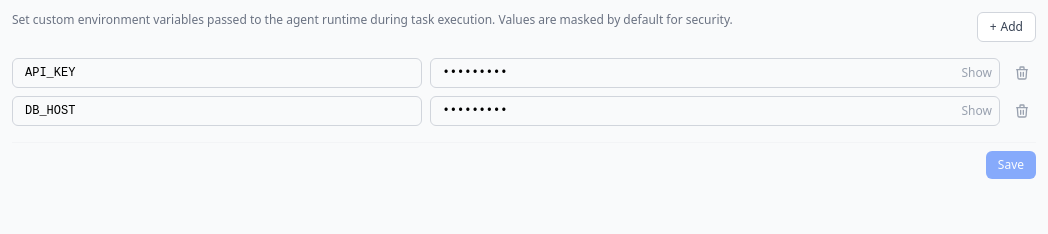
EnvironmentTab › Add button adds new row
Click the button with aria-label "Add environment variable": [1006, 27] box 977,12 -> 1036,42
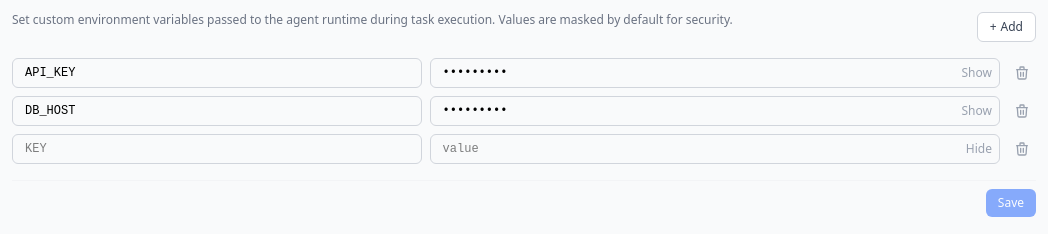
Expected: the number of fields named "environment variable key" is 3, 12,58 -> 422,88; 12,96 -> 422,126; 12,134 -> 422,164
